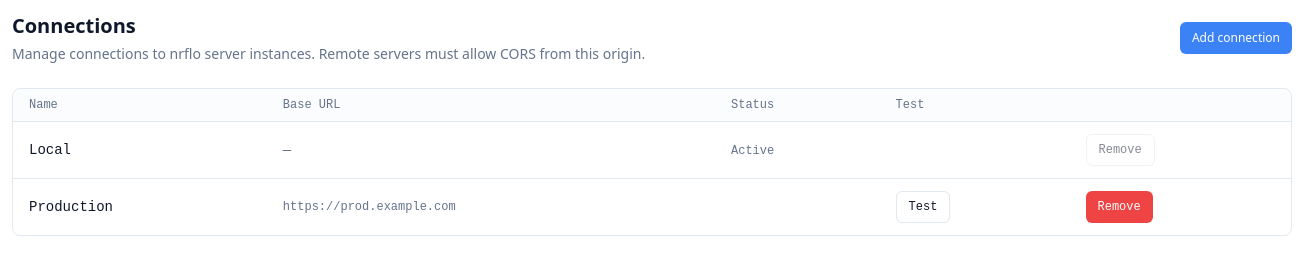
Test: ConnectionsSection - Test button › shows failure message after failed test
The width and height of the screenshot is (1304, 253).
Step 1. Click the button "Test" → (923,207), box [896, 191, 950, 223]
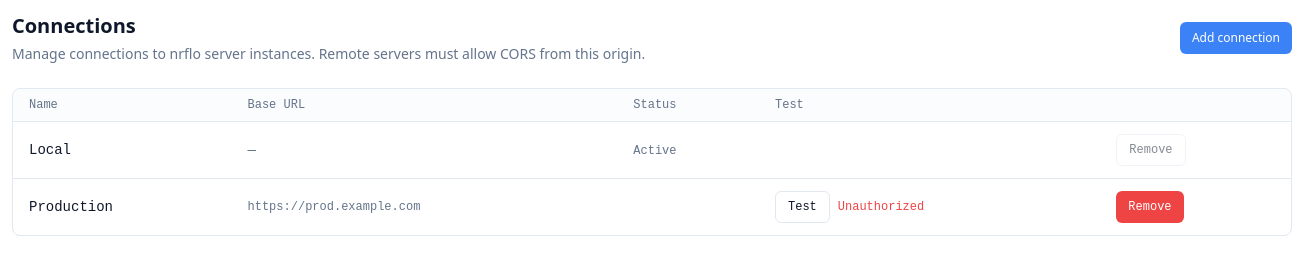
Now the text "Unauthorized" is shown, box [838, 199, 924, 215]
